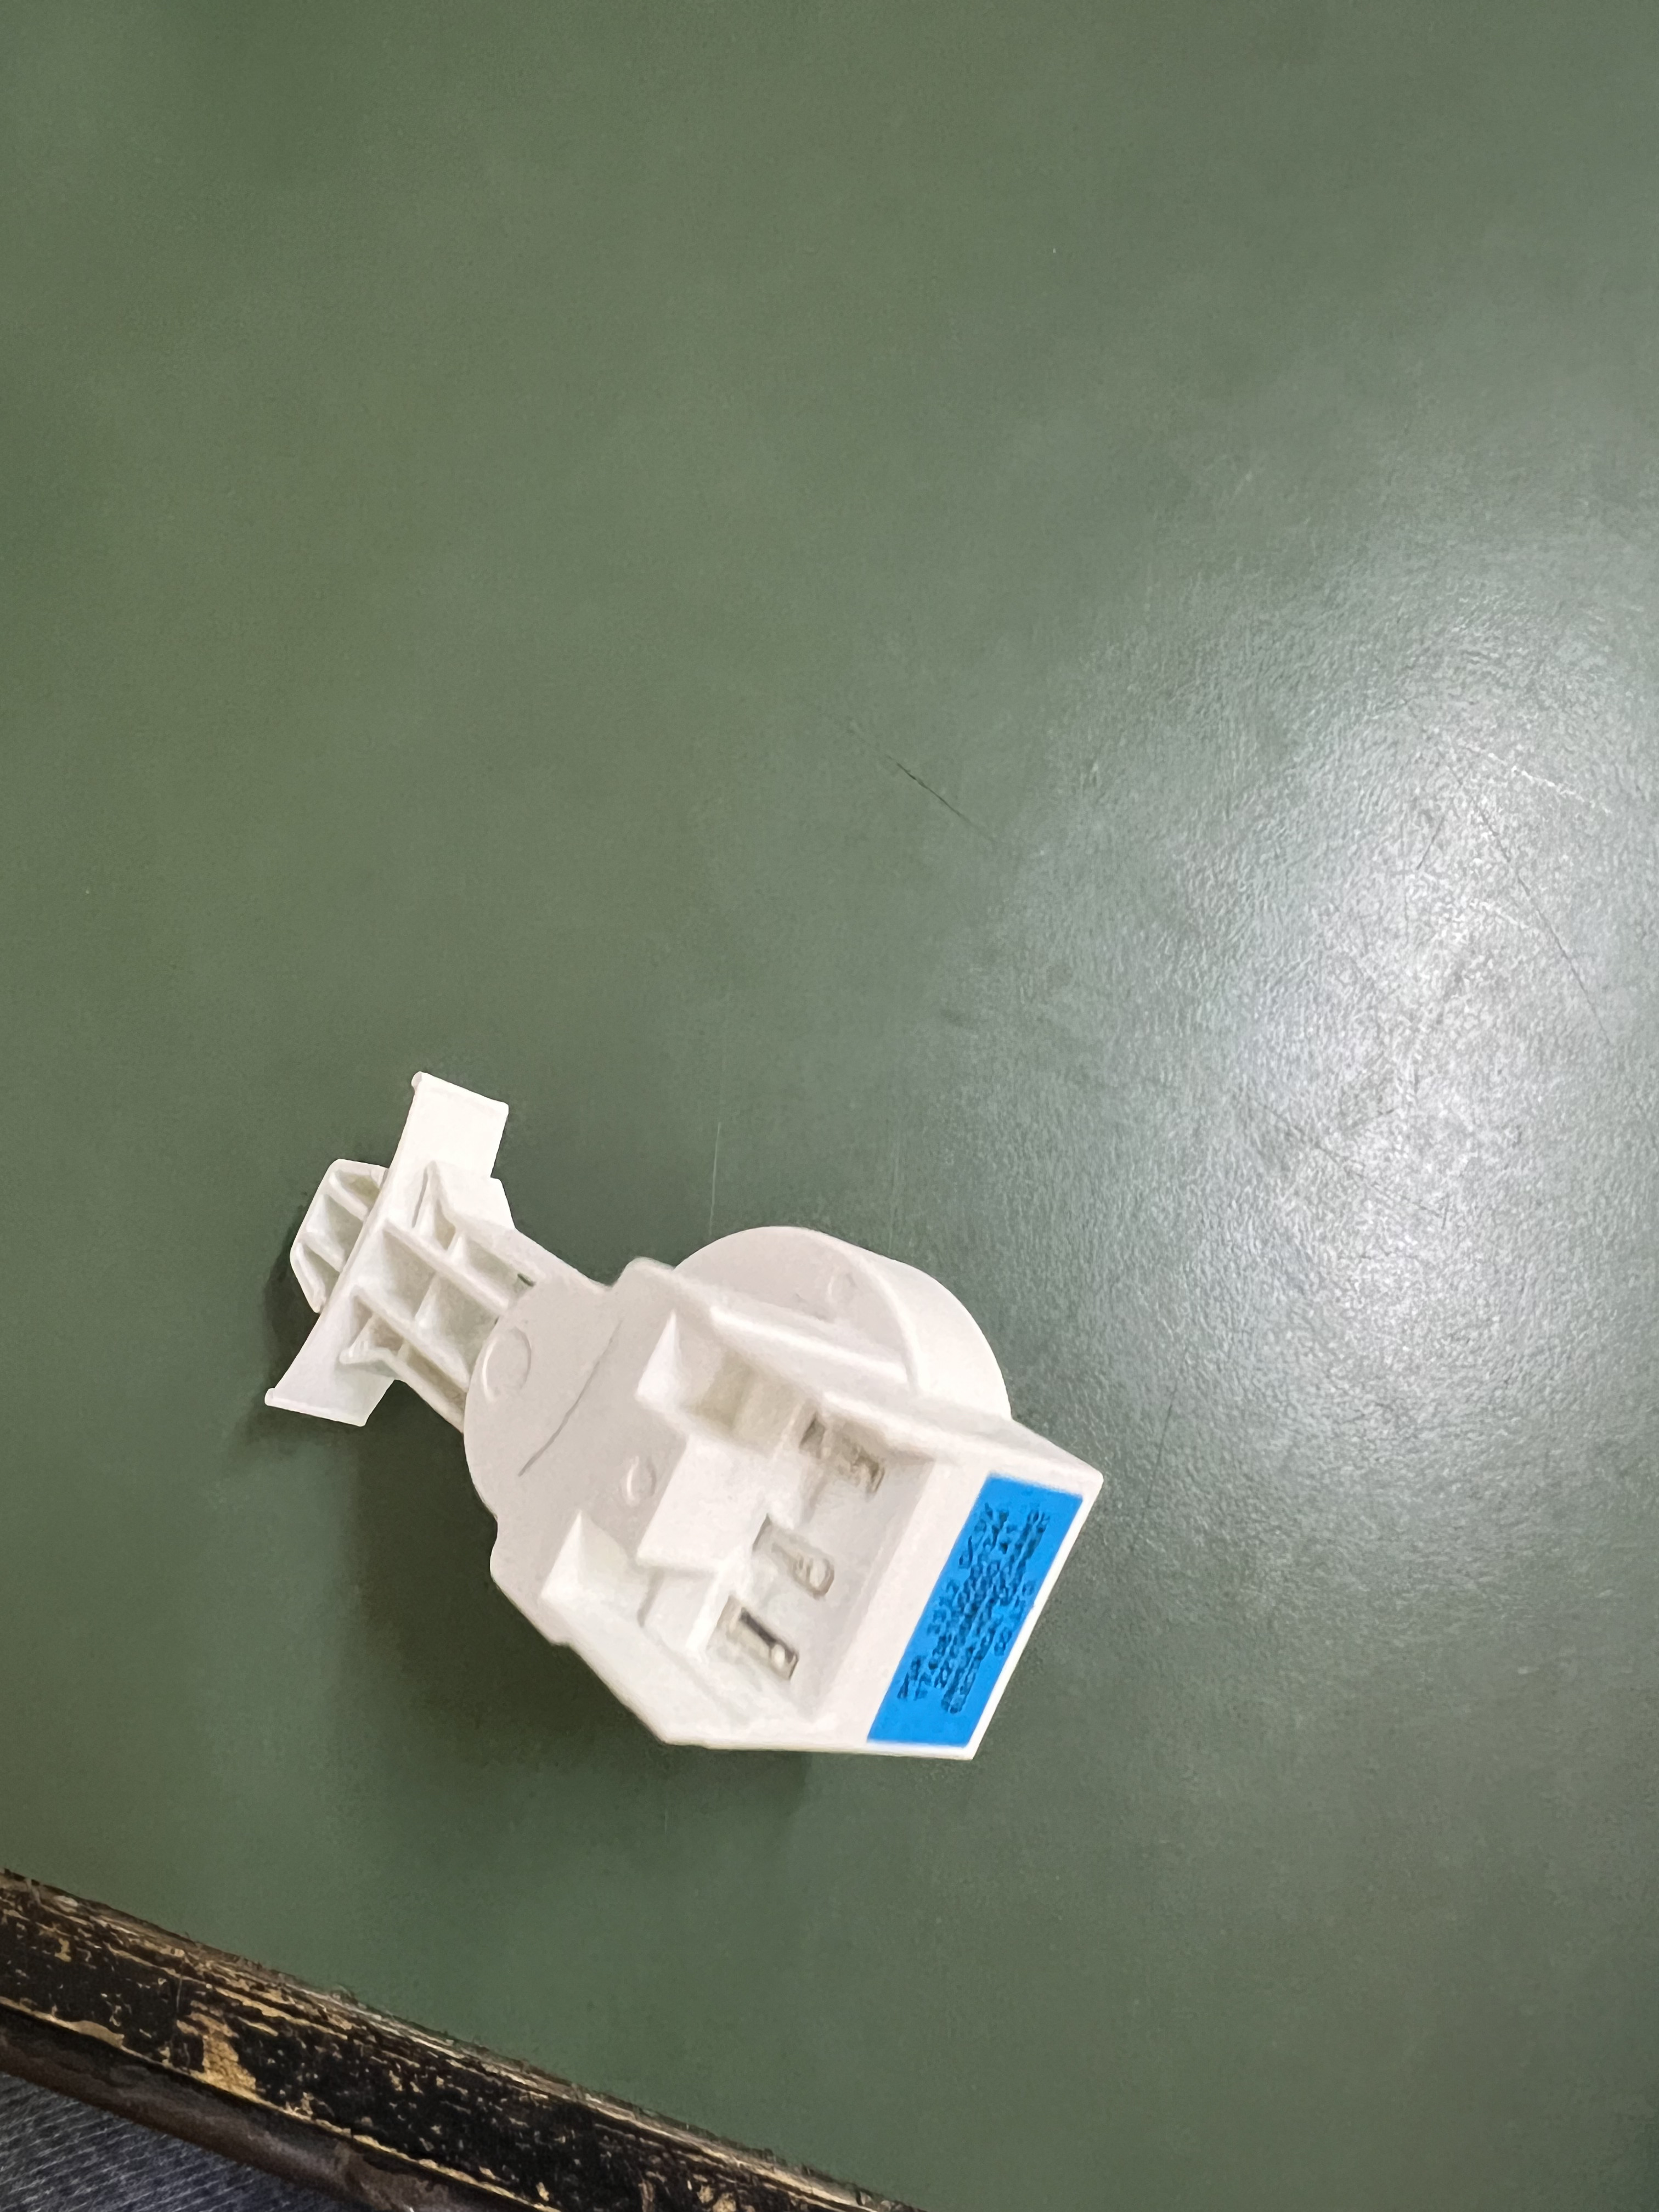pressure_switch_1: (246, 1080, 1159, 1785)
